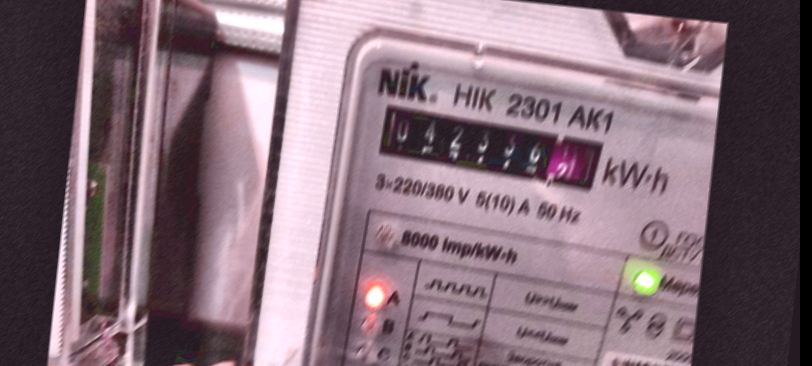0: (394, 113, 410, 144)
2: (446, 121, 467, 150)
3: (472, 124, 491, 154), (501, 128, 518, 157)
4: (420, 117, 439, 146)
6: (526, 137, 543, 165)
screen: (365, 94, 613, 200)
